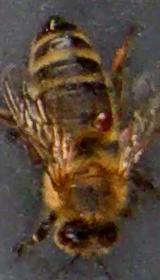varroa_mite: (86, 107, 117, 135)
